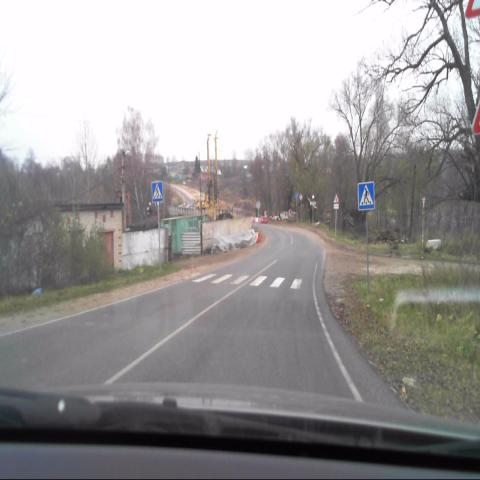1_25: (332, 192, 339, 204)
5_19_1: (357, 181, 376, 211), (152, 181, 163, 202)
